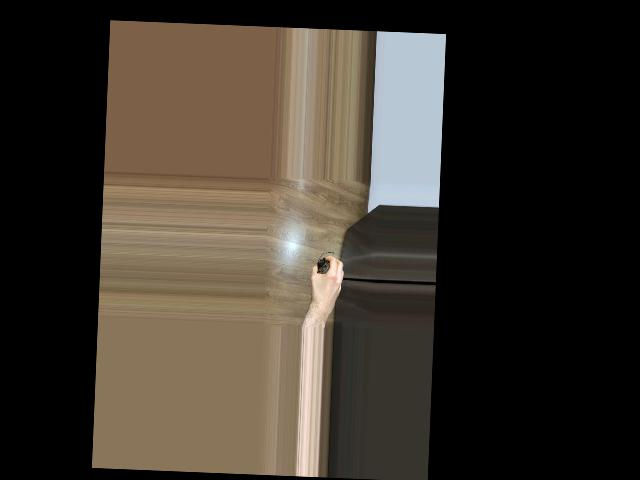beet: (316, 250, 334, 274)
